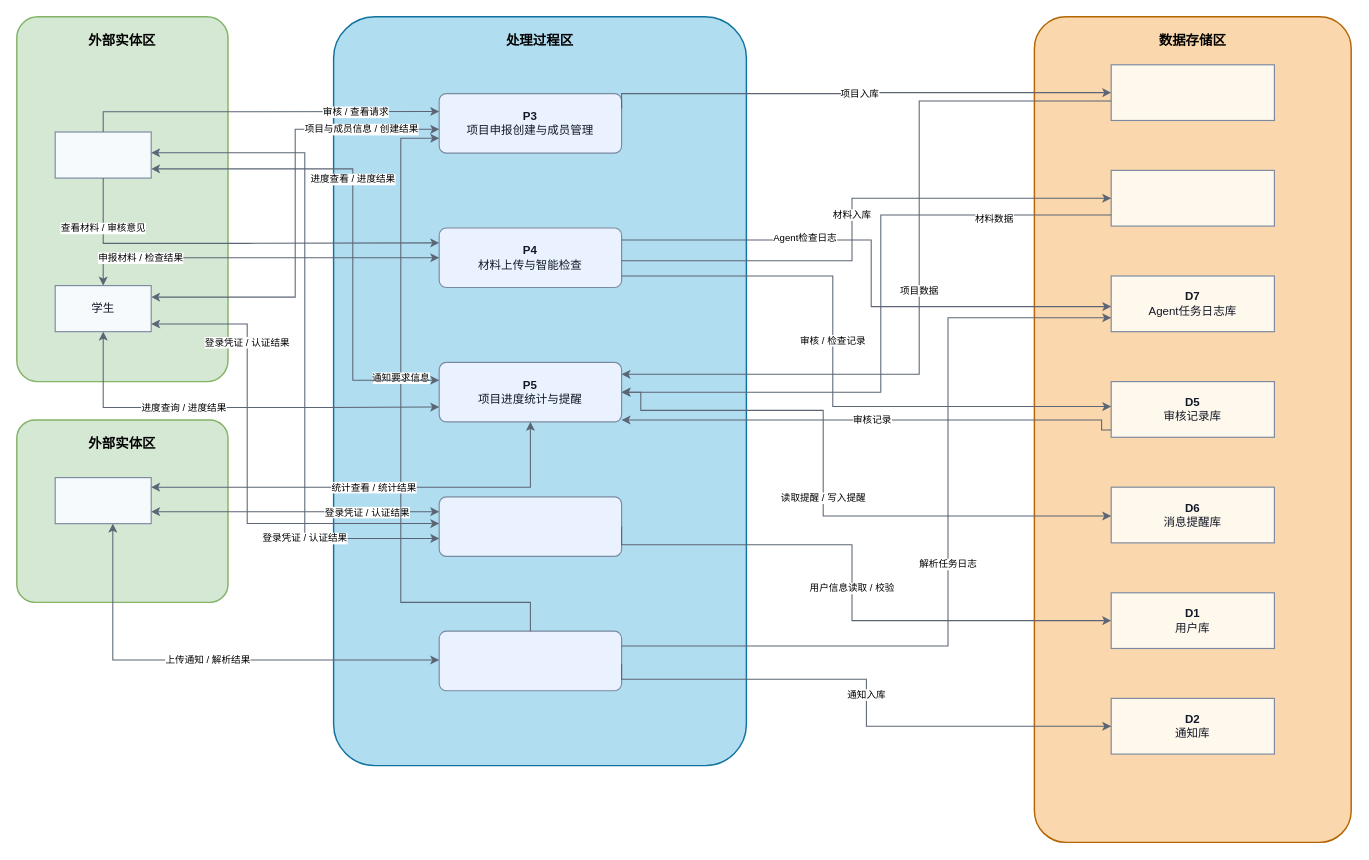
Some shapes in this 1369 by 860 pixel diagram are drawn without their labels. The shapes that lost their labels are listed below. From the top down, each one's box as (x1, y1, x2, y2) in pixels, then its label:
(1110, 64, 1274, 121): D3 项目库
(54, 131, 151, 178): 教师
(1110, 169, 1274, 226): D4 材料库
(54, 477, 151, 524): 管理员
(438, 496, 622, 556): P1 用户登录与权限验证
(438, 630, 622, 691): P2 竞赛通知上传与AI解析
